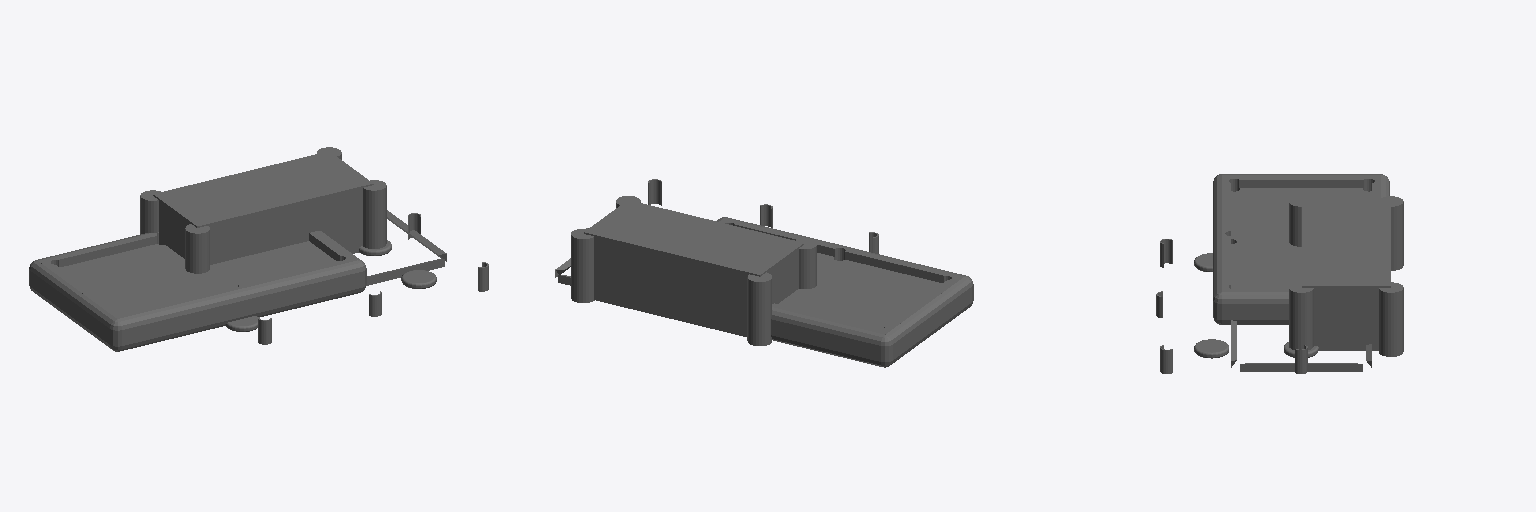
File: pool2.obj
3 views of the same model, side by side, from view 1: azimuth 30°, elevation 25°; view 2: azimuth 150°, elevation 25°; view 3: azimuth 270°, elevation 25° (orthographic).
Size of the model in its own units: 4.57 by 0.8195 by 2.79.